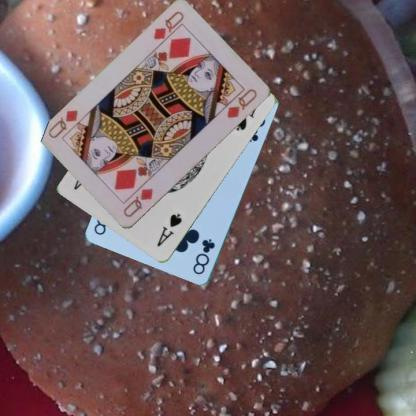8c: (190, 236, 217, 276)
As: (154, 211, 183, 248)
Qd: (150, 9, 185, 49), (120, 185, 155, 219)
